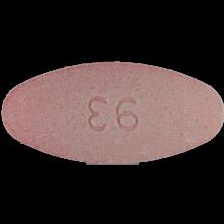0093-2272: (0, 0, 224, 224)
